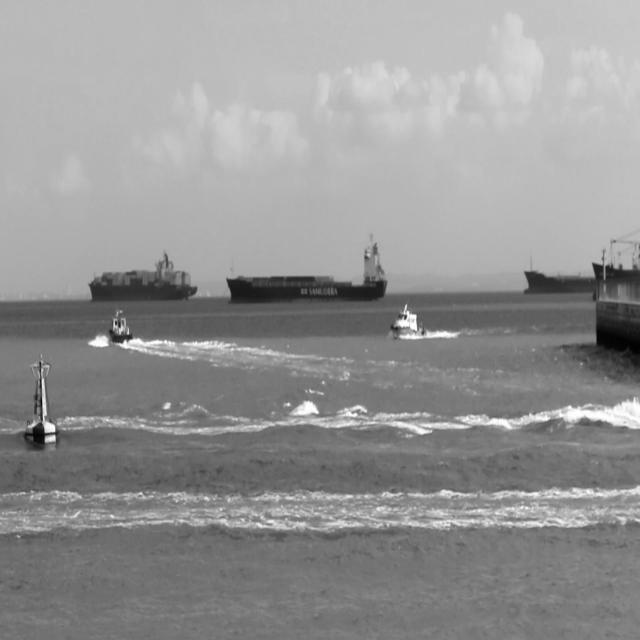buoy: (24, 357, 60, 447)
ship: (225, 230, 388, 304), (89, 246, 198, 302), (523, 254, 595, 294), (391, 302, 426, 338), (108, 306, 134, 346)
